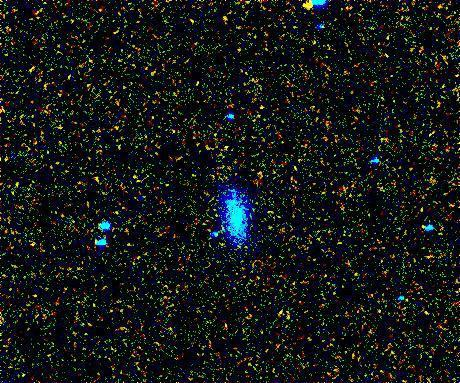star: (293, 0, 323, 19)
